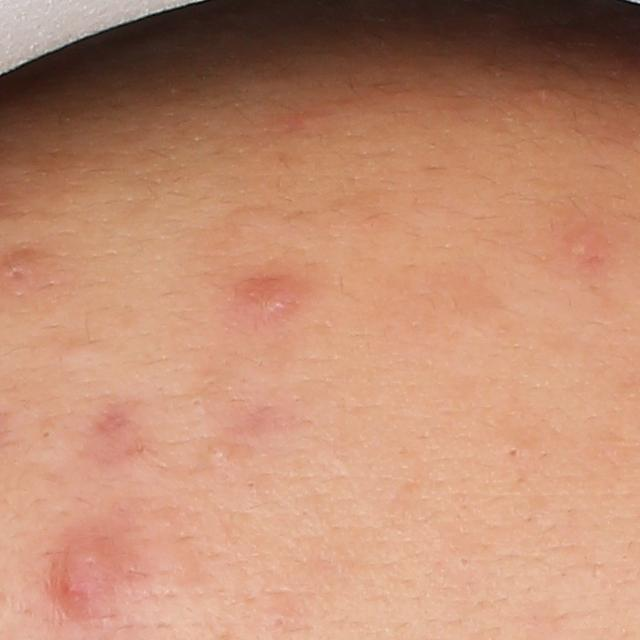comedo: (208, 444, 231, 465), (273, 612, 289, 631)
papule: (57, 536, 119, 609), (241, 276, 294, 318), (0, 252, 33, 287)
